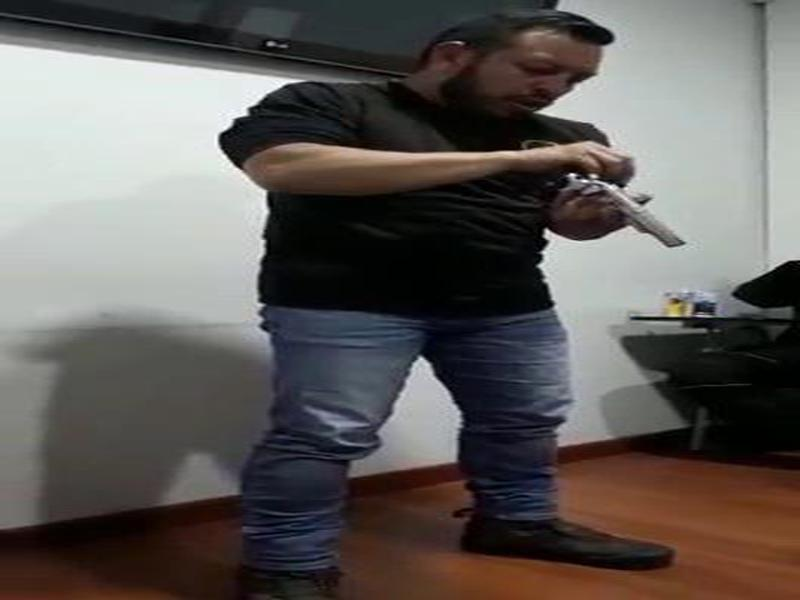Revolver: (516, 148, 696, 272)
